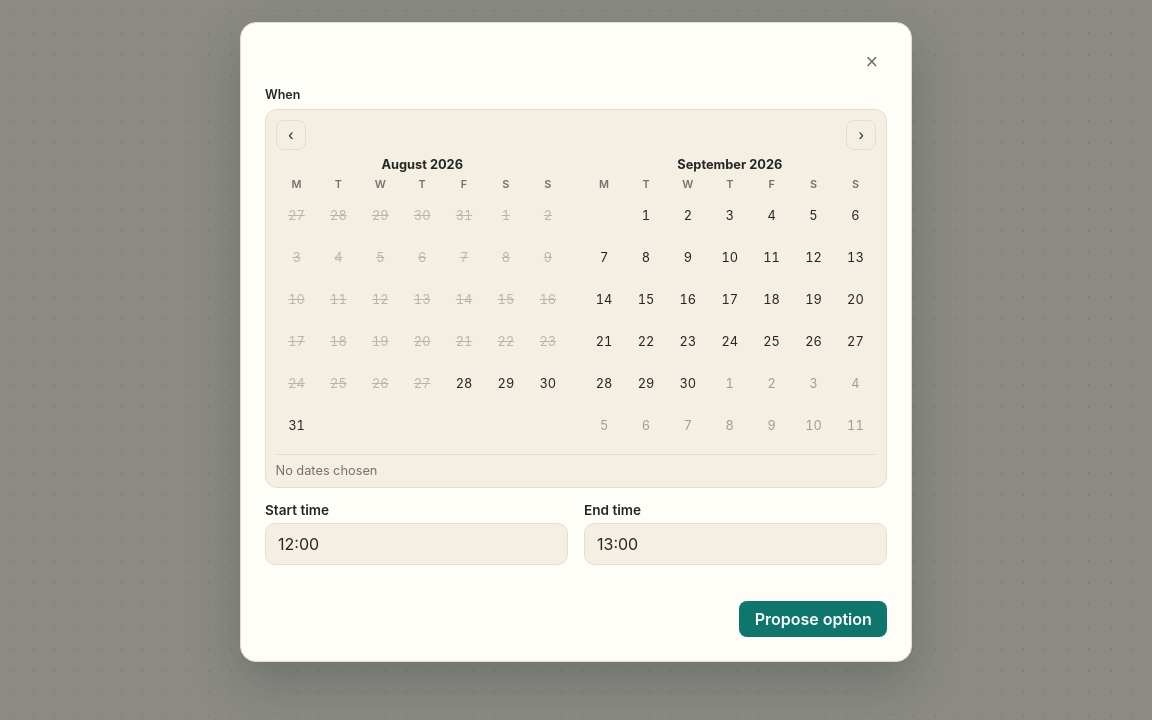
it: what the option form says is required › names the problem instead of refusing to be pressed
(page scrolled)
Click the button "Propose option". click: (813, 618)
box: [740,600,887,636]
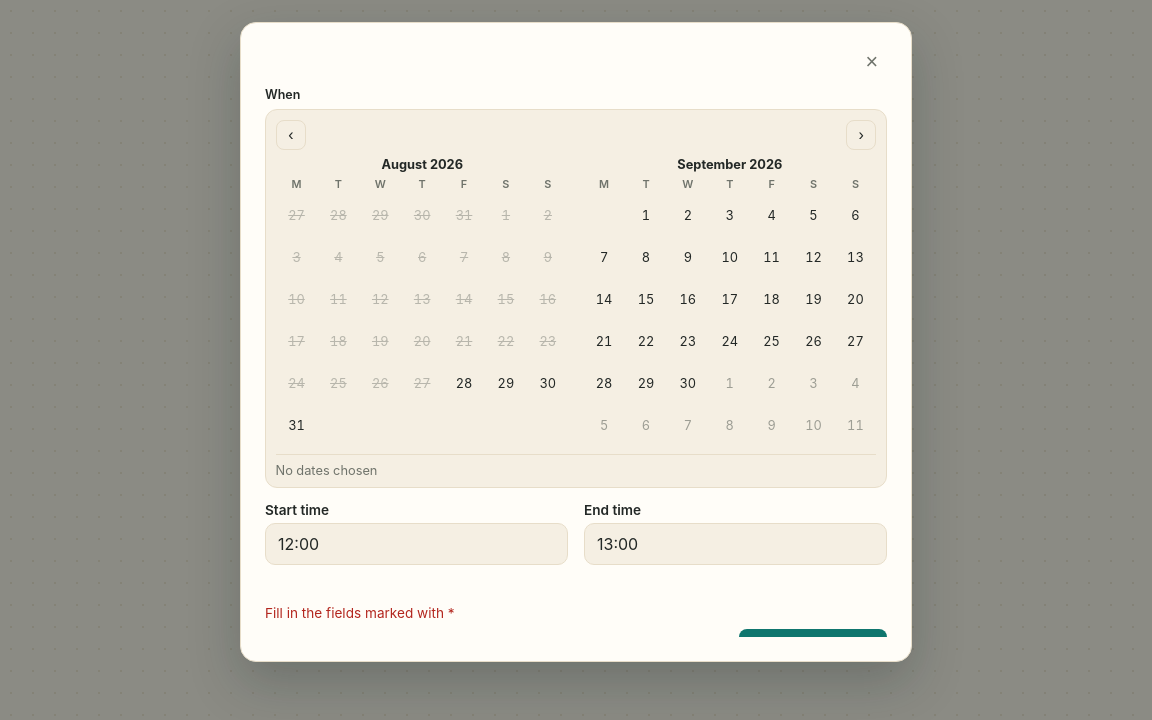
Expected: the message shows "marked with *", [265,604,455,620]
